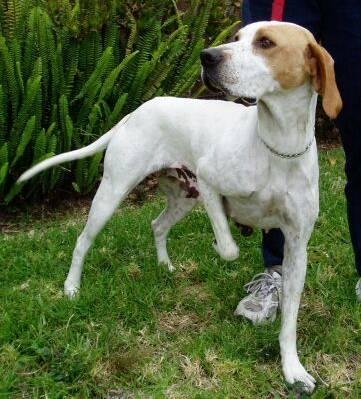dog: (18, 21, 341, 391)
